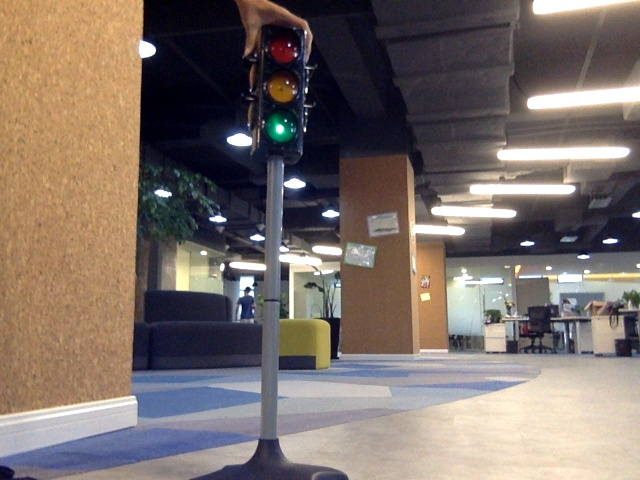green: (261, 34, 301, 149)
